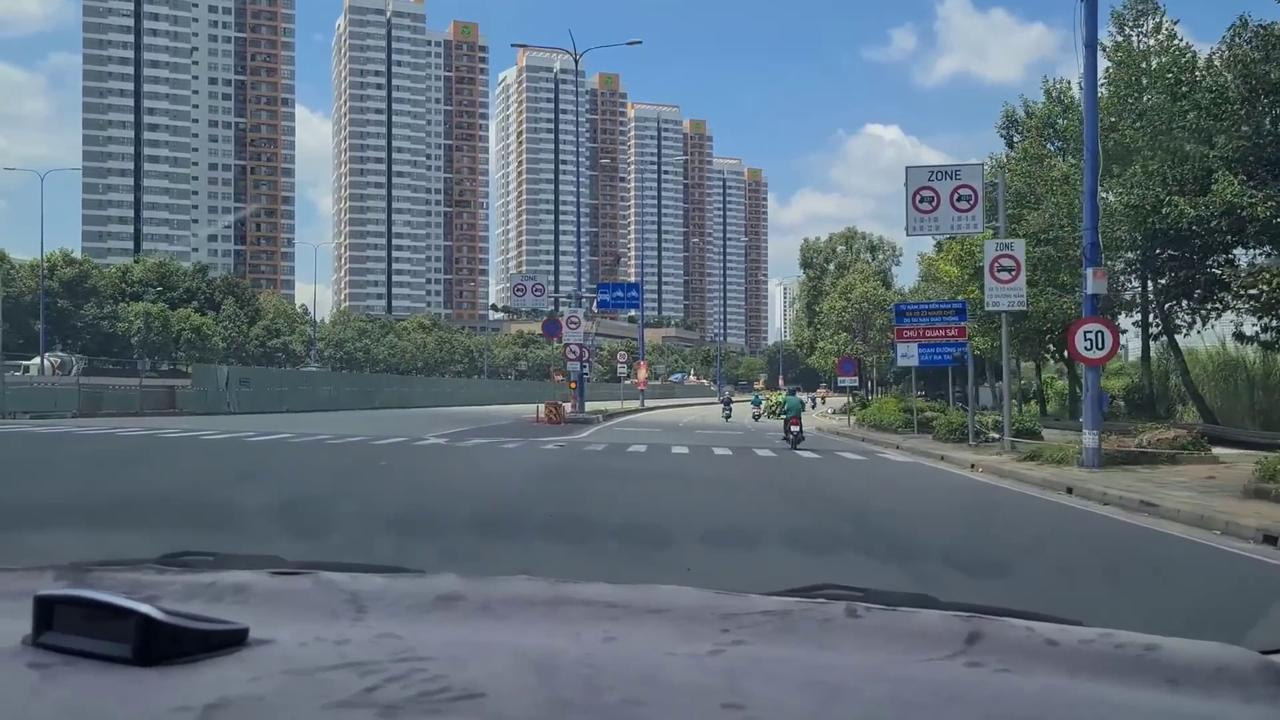Biển phụ: (617, 364, 628, 377)
Cấm cac phương tiện hoạt động trong khung giờ cố định: (904, 162, 984, 236), (983, 240, 1027, 312), (509, 272, 548, 309), (564, 307, 584, 343)
Cấm dừng - Cấm đỗ: (541, 317, 563, 339), (838, 357, 857, 377)
Cấm xe máy: (566, 344, 580, 360)
Giới hạn tốc độ 50Km/h: (1067, 316, 1120, 366)
Giới hạn tốc độ 80Km/h: (616, 350, 628, 362)
Khác: (894, 300, 968, 368)
Làn đường cho từng xe: (596, 281, 641, 310)
